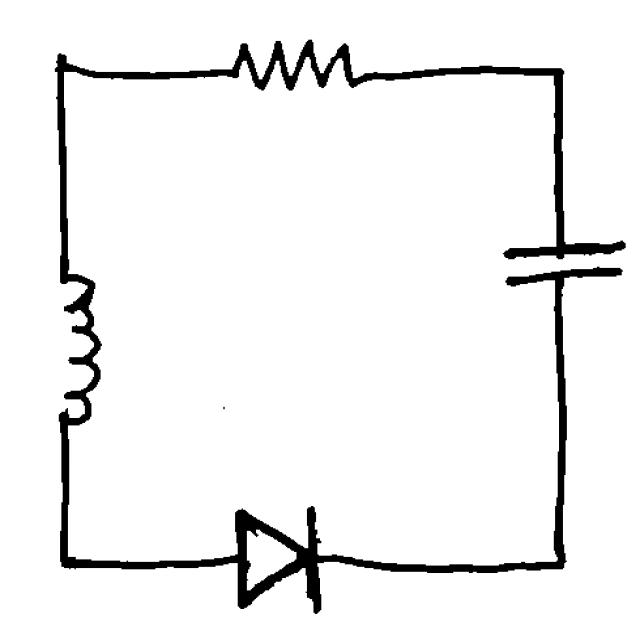capacitor: (488, 224, 633, 302)
diode: (212, 494, 346, 624)
inductor: (39, 251, 114, 443)
resistor: (221, 27, 379, 100)
